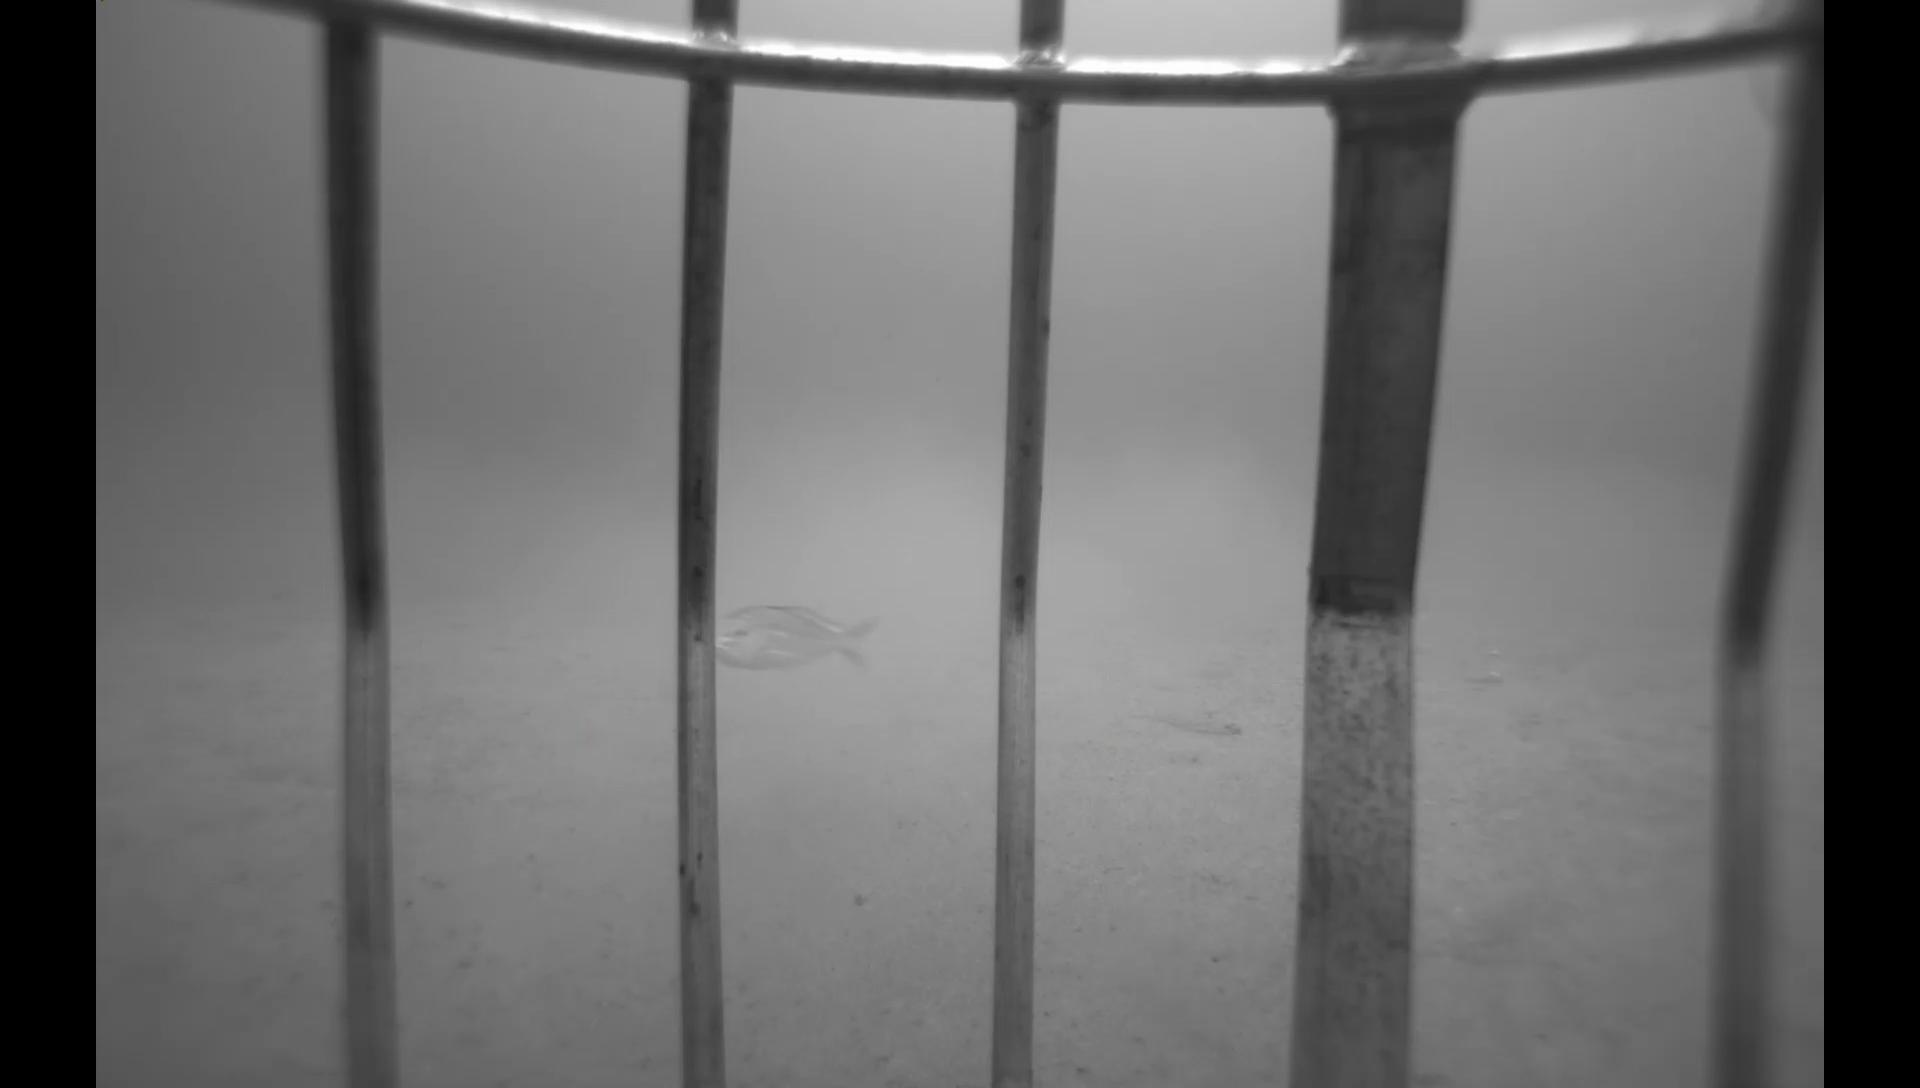CAULOLATILUSCYANOPS-170070101: (713, 593, 890, 680)
SYACIUM-183011000: (1139, 698, 1246, 740)
